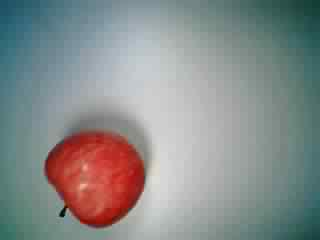apple: (43, 125, 146, 229)
